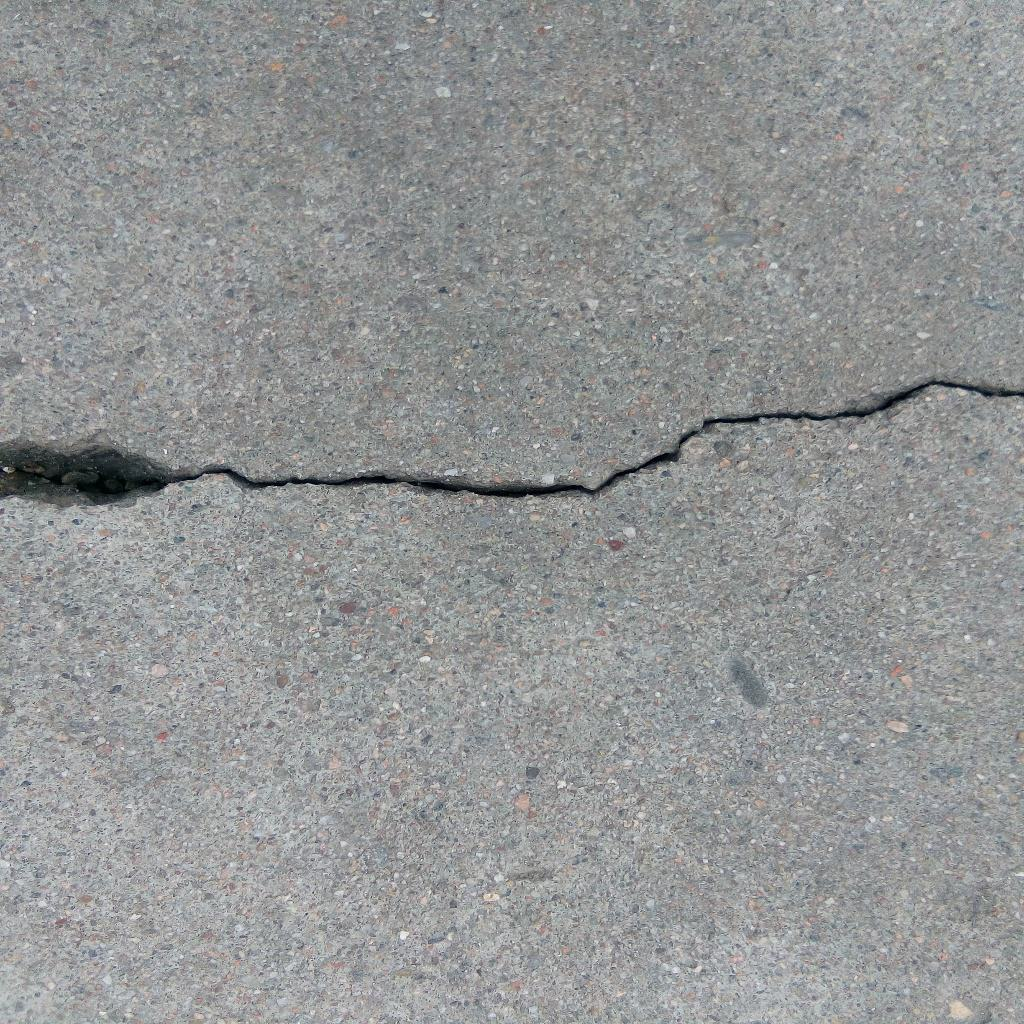Crack: (167, 375, 1024, 500)
Spalling: (1, 436, 167, 508)
